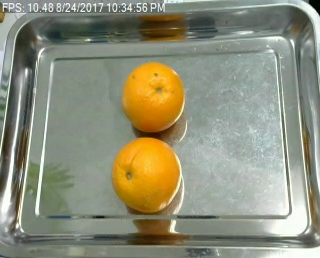Orange: (111, 137, 182, 213), (121, 60, 185, 132)
